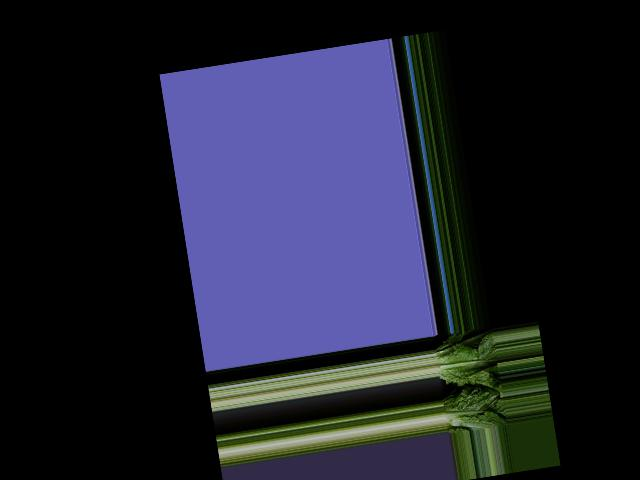lettuce: (440, 384, 503, 431)
